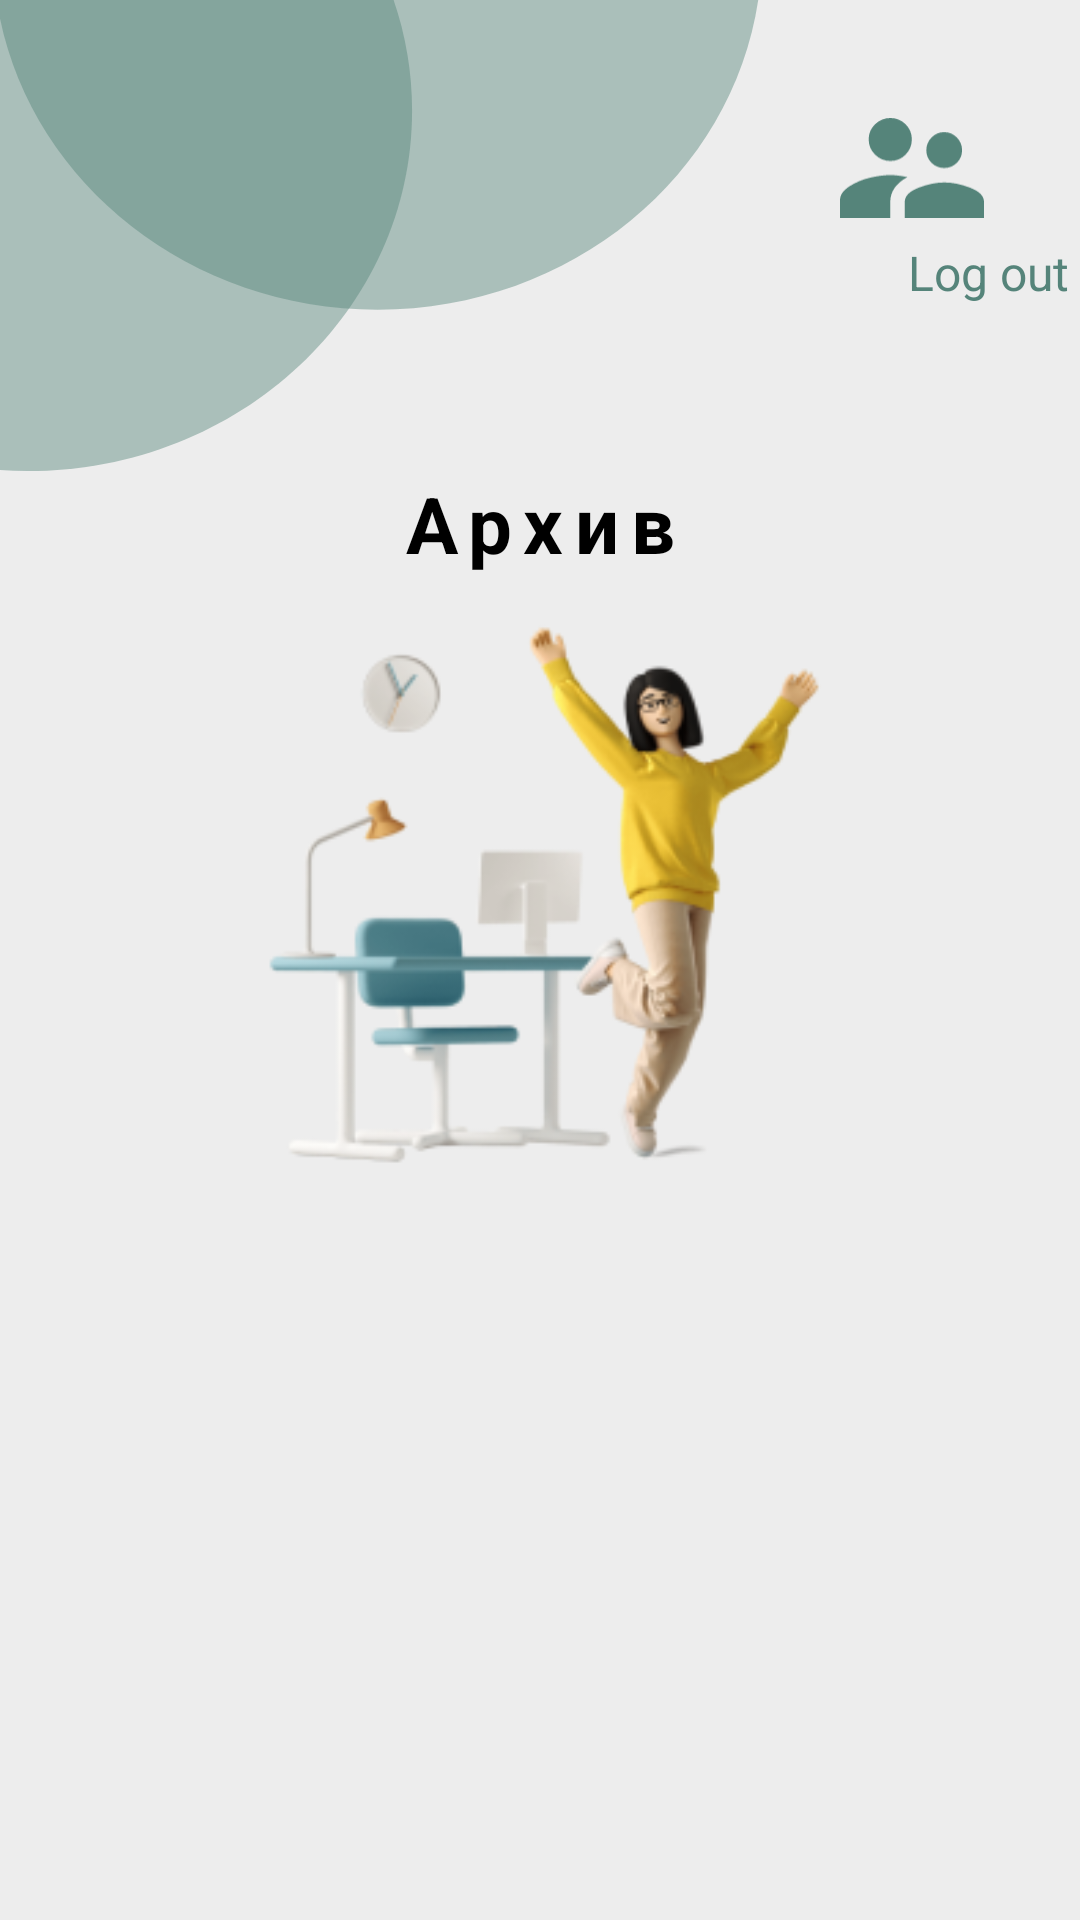

Where icons sit on this 1080*1920 app screen, as region(x1, y1, x2, y2):
account: region(840, 118, 984, 218)
